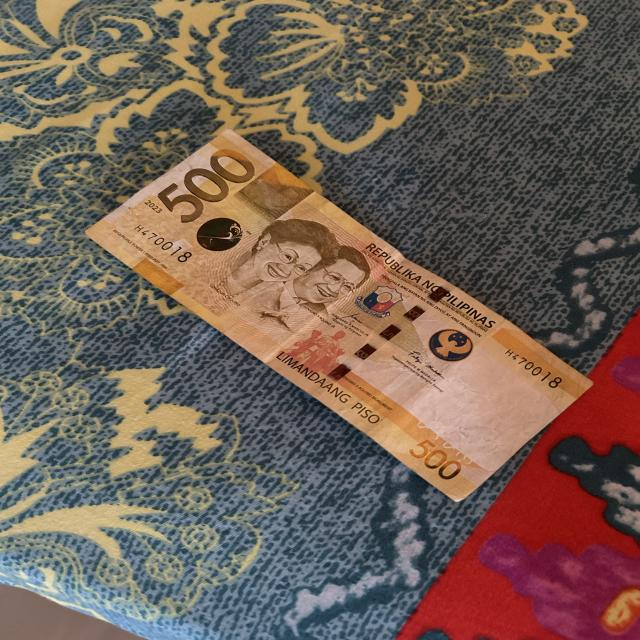concealed_value: (251, 170, 303, 214)
optically_variable_device: (196, 218, 245, 254)
value: (149, 145, 257, 227)
watermark: (423, 370, 529, 460)
